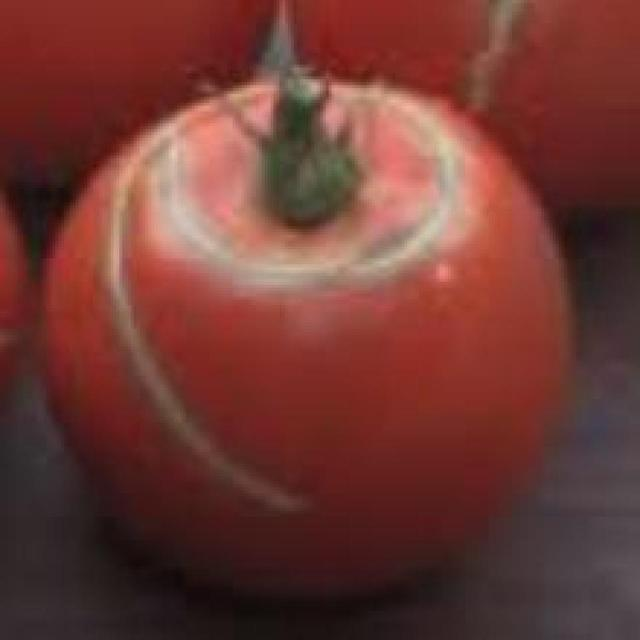Cracking Fruit: (133, 122, 260, 276)
